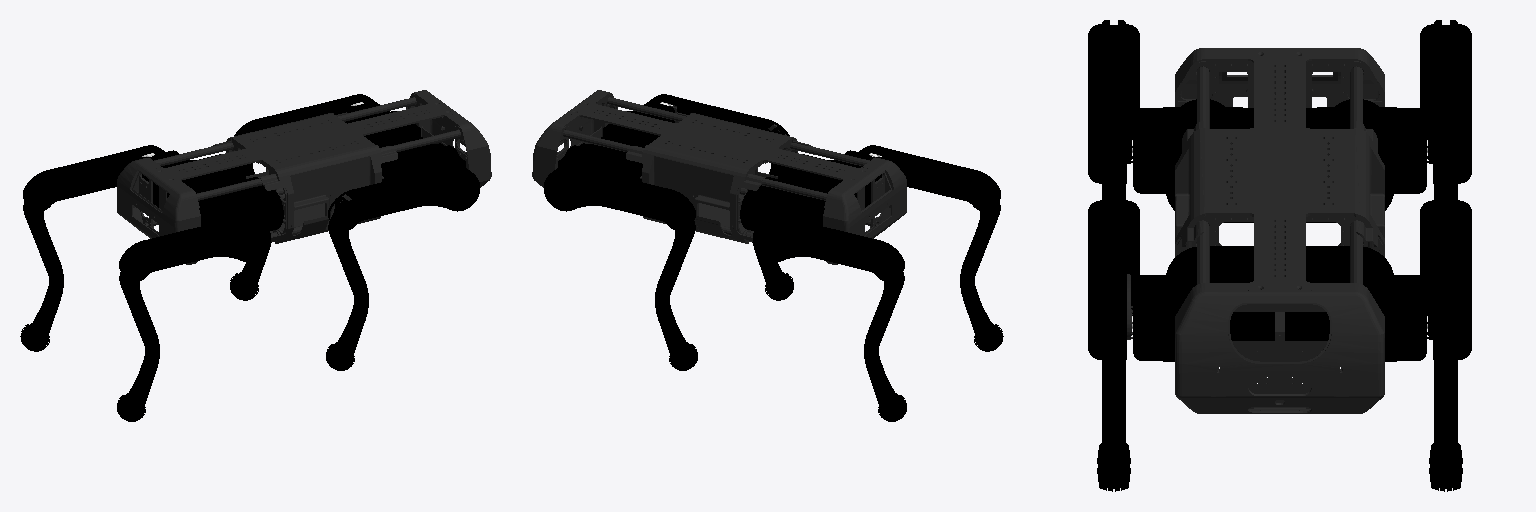
--- Render facts (derived) ---
Views: 3 orthographic renders of the robot side by side, from view 1: azimuth 30°, elevation 25°; view 2: azimuth 150°, elevation 25°; view 3: azimuth 270°, elevation 25°.
Robot: aidin8 — 27 links, 26 joints (13 revolute, 1 prismatic, 12 fixed); root link base1; default pose: all joints at 0.
Visible links, largest first — view 1: body, RB_2, RF_2, LB_2, LB_3, RF_3, RB_3, RB_1, RF_1, LF_2, LB_1, LF_3 (+1 smaller); view 2: body, LF_2, LB_2, RB_2, RB_3, LF_3, LB_3, LB_1, LF_1, RF_2, RB_1, RF_3 (+1 smaller); view 3: body, RF_1, LF_1, LB_2, RB_2, RF_2, LF_2, LB_1, RB_1, RF_3, LF_3.
Link boxes in pixels (x1=…): body: x1=117, y1=90, x2=491, y2=264; RB_2: x1=119, y1=216, x2=270, y2=281; RF_2: x1=328, y1=165, x2=479, y2=230; LB_2: x1=23, y1=145, x2=164, y2=210; LB_3: x1=20, y1=177, x2=63, y2=351; RF_3: x1=326, y1=197, x2=368, y2=370; RB_3: x1=117, y1=248, x2=159, y2=421; RB_1: x1=196, y1=177, x2=283, y2=230; RF_1: x1=379, y1=137, x2=465, y2=181; LF_2: x1=234, y1=94, x2=377, y2=135; LB_1: x1=142, y1=150, x2=245, y2=207; LF_3: x1=230, y1=126, x2=271, y2=300; body: x1=532, y1=90, x2=906, y2=264; LF_2: x1=544, y1=165, x2=695, y2=229; LB_2: x1=753, y1=216, x2=904, y2=280; RB_2: x1=859, y1=145, x2=1000, y2=210; RB_3: x1=960, y1=177, x2=1003, y2=351; LF_3: x1=655, y1=197, x2=697, y2=370; LB_3: x1=864, y1=248, x2=906, y2=421; LB_1: x1=740, y1=177, x2=827, y2=230; LF_1: x1=558, y1=137, x2=644, y2=181; RF_2: x1=646, y1=94, x2=789, y2=135; RB_1: x1=778, y1=150, x2=881, y2=207; RF_3: x1=752, y1=126, x2=793, y2=300; body: x1=1175, y1=48, x2=1384, y2=413; RF_1: x1=1133, y1=246, x2=1274, y2=361; LF_1: x1=1285, y1=246, x2=1426, y2=361; LB_2: x1=1420, y1=24, x2=1471, y2=183; RB_2: x1=1088, y1=24, x2=1139, y2=183; RF_2: x1=1088, y1=200, x2=1139, y2=359; LF_2: x1=1420, y1=200, x2=1471, y2=359; LB_1: x1=1306, y1=99, x2=1426, y2=222; RB_1: x1=1133, y1=99, x2=1253, y2=222; RF_3: x1=1097, y1=197, x2=1130, y2=491; LF_3: x1=1429, y1=197, x2=1462, y2=491.
Size in the robot's own frame: 1.21 by 0.5944 by 0.5596 metres.
26 mesh visuals loaded from 17 distinct referenced files (13 binary STL); not drawn: 4 (reference not matched to a file when rendering).

URDF robot description (aidin8):
<?xml version="1.0" ?>
<!-- TODO: https://github.com/aidinrobotics/aidin8_sim/blob/bumsu_camera/urdf/aidin8.urdf-->

<robot name="aidin8">
  <material name="black">
    <color rgba="0.0 0.0 0.0 1.0"/>
  </material>
  <material name="blue">
    <color rgba="0.0 0.0 0.8 1.0"/>
  </material>
  <material name="green">
    <color rgba="0.0 0.8 0.0 1.0"/>
  </material>
  <material name="grey">
    <color rgba="0.2 0.2 0.2 1.0"/>
  </material>
  <material name="silver">
    <color rgba="0.913725490196 0.913725490196 0.847058823529 1.0"/>
  </material>
  <material name="orange">
    <color rgba="1.0 0.423529411765 0.0392156862745 1.0"/>
  </material>
  <material name="brown">
    <color rgba="0.870588235294 0.811764705882 0.764705882353 1.0"/>
  </material>
  <material name="red">
    <color rgba="0.8 0.0 0.0 1.0"/>
  </material>
  <material name="yellow">
    <color rgba="0.8 0.8 0.0 1.0"/>
  </material>
  <material name="white">
    <color rgba="1.0 1.0 1.0 1.0"/>
  </material>

<!--///////////////////// Virtual link for dataset collection /////////////////////-->

  <link name="base1"/>

  <joint name="joint1" type="prismatic">
    <parent link="base1"/>
    <child link="base2"/>
    <origin xyz="0.0 0.0 0.0" rpy="0.0 0.0 0.0"/>
    <axis xyz="0.0 0.0 1.0"/>
    <!-- <limit effort="1000.0" lower="-4" upper="4" velocity="100"/> -->
    <limit velocity="5"/>
  </joint>

  <link name="base2"/>

   <joint name="joint2" type="revolute">
    <parent link="base2"/>
    <child link="body"/>
    <origin xyz="0.0 0.0 0.0" rpy="0.0 0.0 0.0"/>
    <axis xyz="0.0 0.0 1.0"/>
    <limit lower="-3.14" upper="3.14" velocity="0.05"/>
  </joint>

<!--////////////////////////////////   Body    ////////////////////////////////-->
  <link name="body">
    <inertial>
      <mass value="12.3188555"/>
      <origin xyz="0.00142 -0.00222 -0.04319" rpy="0 0 0"/>
      <inertia ixx="0.1104557116459" ixy="0.0002742627834" ixz="-0.0007826805716" iyy="0.2925866863396" iyz="-0.0018014327089" izz="0.3259809298915"/>
    </inertial>
    <collision name="body_col" >
      <origin xyz="0 0 0" rpy="0 0 0"/>
      <geometry>
        <mesh filename="../meshes/meshes_surface/AR21HA-BOY-A000-2.STL" scale="1 1 1"/>
      </geometry>
    </collision>
    <visual name="body_vis">
      <origin xyz="0 0 0" rpy="0 0 3.14159"/>
      <geometry>
        <mesh filename="../meshes/meshes_surface/AR21HA-BOY-A000-2.STL" scale="1 1 1"/>
      </geometry>
      <material name="grey"/>
    </visual>
    <visual name="body_cover_vis">
      <origin xyz="0 0 0" rpy="0 0 3.14159"/>
      <geometry>
        <mesh filename="../meshes/meshes_surface/AR21HA-BOY-A000-2.STL" scale="1 1 1"/>
      </geometry>
      <material name="black"/>
    </visual>
  </link>
<!--  <gazebo reference="body">-->
<!--    <material>Gazebo/DarkGrey</material>-->
<!--  </gazebo>-->


<!--//////////////////////////////// RF LINKS /////////////////////////////////-->

  <link name="RF_1">
    <inertial>
      <mass value="6.3549628"/>
      <origin xyz="2.22e-03 -7.00e-05 -3.49e-02" rpy="0 0 0"/>
      <inertia ixx="0.0268838092963" ixy="-0.0000090031909" ixz="0.0010319405579" iyy="0.0388589753376" iyz="0.0000168509340" izz="0.0189992476926"/>
    </inertial>
    <collision name="RF_col1" >
      <origin xyz="0 0 0" rpy="0 0 0"/>
      <geometry>
        <mesh filename="../meshes/meshes_surface/sc_cover_RF.STL" scale="1 1 1"/>
      </geometry>
    </collision>
    <visual name="RF_1_vis">
      <origin xyz="0 0 0" rpy="0 0 0"/>
      <geometry>
        <mesh filename="../meshes/meshes_surface/Leg_Scapular_RF_stp_v2.STL" scale="1 1 1"/>
      </geometry>
      <material name="grey"/>
    </visual>
    <visual name="RF_1_cover_vis">
      <origin xyz="0 0 0" rpy="0 0 0"/>
      <geometry>
        <mesh filename="../meshes/meshes_surface/sc_cover_RF.STL" scale="1 1 1"/>
      </geometry>
      <material name="black"/>
    </visual>
  </link>
<!--  <gazebo reference="RF_1">-->
<!--    <material>Gazebo/DarkGrey</material>-->
<!--  </gazebo>-->

  <link name="RF_2">
    <inertial>
      <mass value="0.8592967"/>
      <origin xyz="1.75316e-01 -1.49727e-02 1.2510e-04" rpy="0 0 0"/>
      <inertia ixx="0.0007326198866" ixy="0.0000038940144" ixz="-0.0000188175364" iyy="0.0157450190455" iyz="0.0000015777233" izz="0.0157308802469"/>
    </inertial>
    <collision name="RF_col2" >
      <origin xyz="0 0 0" rpy="0 0 0"/>
      <geometry>
        <mesh filename="../meshes/meshes_surface/hip_cover_r.STL" scale="1 1 1"/>
      </geometry>
    </collision>
    <visual name="RF_2_vis">
      <origin xyz="0 0 0" rpy="0 0 0"/>
      <geometry>
        <mesh filename="../meshes/meshes_surface/Leg_Hip_right_stp.STL" scale="1 1 1"/>
      </geometry>
      <material name="grey"/>
    </visual>
    <visual name="RF_2_cover_vis">
      <origin xyz="0 0 0" rpy="0 0 0"/>
      <geometry>
        <mesh filename="../meshes/meshes_surface/hip_cover_r.STL" scale="1 1 1"/>
      </geometry>
      <material name="black"/>
    </visual>
  </link>
<!--  <gazebo reference="RF_2">-->
<!--    <material>Gazebo/DarkGrey</material>-->
<!--  </gazebo>-->

  <link name="RF_3">
    <inertial>
      <mass value="1.0898094"/>
      <origin xyz="0.1800139 0.0211379 0" rpy="0 0 0"/>
      <inertia ixx="0.0011170724779" ixy="0.0013927896194" ixz="-0.0000000006471" iyy="0.028702148538" iyz="-0.0000000000318" izz="0.0294755353979"/>
    </inertial>
    <collision name="RF_col3">
      <origin rpy="0  0  0" xyz="0  0  0"/>
      <geometry>
        <mesh filename="../meshes/meshes_surface/leg_t.STL" scale="1 1 1"/>
      </geometry>
    </collision>
    <collision name="RF_col4">
      <origin rpy="0  0  0" xyz="0  0  0"/>
      <geometry>
        <mesh filename="../meshes/meshes_surface/leg_b.STL" scale="1 1 1"/>
      </geometry>
    </collision>
    <visual name="RF_3_vis">
      <origin xyz="0 0 0" rpy="0 0 0"/>
      <geometry>
        <mesh filename="../meshes/meshes_surface/leg_foot.STL" scale="1 1 1"/>
      </geometry>
      <material name="black"/>
    </visual>
  </link>
<!--  <gazebo reference="RF_3">-->
<!--    <material>Gazebo/Grey</material>-->
<!--  </gazebo>-->

  <link name="RF_link1">
    <inertial>
      <mass value="0.356529"/>
      <origin xyz="0.00726 -0.00049 -0.03152" rpy="0 0 0"/>
      <inertia ixx="0.0009737671712" ixy="0.0000021895727" ixz="0.0000821138402" iyy="0.0010410742162" iyz="-0.0000057093198" izz="0.0001183464867"/>
    </inertial>
    <visual name="RF_link1_vis">
      <origin xyz="0 0 0" rpy="0 0 0"/>
      <geometry>
        <mesh filename="../meshes/meshes_surface/Knee_link1_right_stp.STL" scale="1 1 1"/>
      </geometry>
      <material name="white"/>
    </visual>
  </link>

  <link name="RF_link2">
    <inertial>
      <mass value="0.20931"/>
      <origin xyz="0.175 0    0" rpy="0 0 0"/>
      <inertia ixx="0.00000747991" ixy="0" ixz="0" iyy="0.00238918720" iyz="0" izz="0.00239407889"/>
    </inertial>
    <visual name="RF_link2_vis">
      <origin xyz="0    0    0" rpy="0    0    0"/>
      <geometry>
        <mesh filename="../meshes/meshes_surface/Knee_link2_stp.STL" scale="1 1 1"/>
      </geometry>
      <material name="black"/>
    </visual>
  </link>

  <link name="RF_foot">
    <inertial>
      <mass value="0.01"/>
      <inertia ixx="0" ixy="0.0" ixz="0.0" iyy="0" iyz="0.0" izz="0"/>
    </inertial>
    <collision name="RF_col5">
      <origin rpy="0  0  0" xyz="0  0  0"/>
      <geometry>
        <mesh filename="../meshes/meshes_surface/foot.STL" scale="1 1 1"/>
      </geometry>
    </collision>
    <!-- <visual name="RF_foot_vis">
      <origin xyz="0    0    0" rpy="0    0    0"/>
      <geometry>
        <sphere radius="0.02"/>
      </geometry>
      <material name="white"/>
    </visual> -->
  </link>

<!--//////////////////////////////// RF JOINTS ////////////////////////////////-->

  <joint name="RFJ1" type="revolute">
    <parent link="body"/>
    <child link="RF_1"/>
    <origin xyz="0.3224 -0.119   0" rpy="-1.57079  0      -1.57079"/>
    <axis xyz="0 0 1"/>
    <limit lower="-0.6108652382" upper="0.6108652382" effort="150.0" velocity="15.5"/>
  </joint>

  <joint name="RFJ2" type="revolute">
    <parent link="RF_1"/>
    <child link="RF_2"/>
    <origin xyz="0.13769 0      0" rpy="-1.58259  1.57079 -1.58259"/>
    <axis xyz="0 0 1"/>
    <limit lower="-3.14" upper="3.14" effort="150.0" velocity="15.5"/>
  </joint>

  <joint name="RFJ3" type="revolute">
    <parent link="RF_2"/>
    <child link="RF_3"/>
    <origin xyz="0.35 0   0" rpy="0      0      1.57079"/>
    <axis xyz="0 0 1"/>
    <limit lower="-1.308996939" upper="1.0471975512" effort="150.0" velocity="15.5"/>
  </joint>

  <joint name="RFJ_link1" type="fixed"> <!--revolute -> fixed-->
    <parent link="RF_1"/>
    <child link="RF_link1"/>
    <origin xyz="0.13769 0      0" rpy="-1.57079  0.17453 -1.57079"/>
    <axis xyz="0 0 1"/>
  </joint>

  <joint name="RFJ_link2" type="fixed"> <!--revolute -> fixed-->
    <parent link="RF_2"/>
    <child link="RF_link2"/>
    <origin xyz="0    0    0" rpy="0    0    0"/>
    <axis xyz="0 0 1"/>
  </joint>

  <joint name="RFJ_foot" type="fixed" dont_collapse="true"> <!--revolute -> fixed-->
    <parent link="RF_3"/>
    <child link="RF_foot"/>
    <origin rpy="0 0 0" xyz="0.4 0 0"/>
    <axis xyz="0 0 1"/>
  </joint>

<!--//////////////////////////////// LF LINKS /////////////////////////////////-->

  <link name="LF_1">
    <inertial>
      <mass value="6.3549628"/>
      <origin xyz="0.00223 -0.00011 -0.03491" rpy="0 0 0"/>
      <inertia ixx="0.0268822823205" ixy="0.0000315138420" ixz="-0.0010398645982" iyy="0.0388571979436" iyz="-0.0000013704590" izz="0.01899889911081"/>
    </inertial>
    <collision name="LF_col1" >
      <origin xyz="0 0 0" rpy="0 0 0"/>
      <geometry>
        <mesh filename="../meshes/meshes_surface/sc_cover_LF.STL" scale="1 1 1"/>
      </geometry>
    </collision>
    <visual name="LF_1_vis">
      <origin xyz="0 0 0" rpy="0 0 0"/>
      <geometry>
        <mesh filename="../meshes/meshes_surface/Leg_Scapular_LF_stp_v2.STL" scale="1 1 1"/>
      </geometry>
      <material name="black"/>
    </visual>
    <visual name="LF_1_cover_vis">
      <origin xyz="0 0 0" rpy="0 0 0"/>
      <geometry>
        <mesh filename="../meshes/meshes_surface/sc_cover_LF.STL" scale="1 1 1"/>
      </geometry>
      <material name="black"/>
    </visual>
  </link>
<!--  <gazebo reference="LF_1">-->
<!--    <material>Gazebo/DarkGrey</material>-->
<!--  </gazebo>-->

  <link name="LF_2">
    <inertial>
      <mass value="0.8592967"/>
      <origin xyz="1.75316e-01 -1.49727e-02 -1.2510e-04" rpy="0 0 0"/>
      <inertia ixx="0.0007326198857" ixy="0.0000038940144" ixz="0.0000188178556" iyy="0.0157450190446" iyz="-0.0000015777889" izz="0.0157308802467"/>
    </inertial>
    <collision name="LF_col2" >
      <origin xyz="0 0 0" rpy="0 0 0"/>
      <geometry>
        <mesh filename="../meshes/meshes_surface/hip_cover_l.STL" scale="1 1 1"/>
      </geometry>
    </collision>
    <visual name="LF_2_vis">
      <origin xyz="0 0 0" rpy="0 0 0"/>
      <geometry>
        <mesh filename="../meshes/meshes_surface/Leg_Hip_left_stp.STL" scale="1 1 1"/>
      </geometry>
      <material name="black"/>
    </visual>
    <visual name="LF_2_cover_vis">
      <origin xyz="0 0 0" rpy="0 0 0"/>
      <geometry>
        <mesh filename="../meshes/meshes_surface/hip_cover_l.STL" scale="1 1 1"/>
      </geometry>
      <material name="black"/>
    </visual>
  </link>
<!--  <gazebo reference="LF_2">-->
<!--    <material>Gazebo/DarkGrey</material>-->
<!--  </gazebo>-->

  <link name="LF_3">
    <inertial>
      <mass value="1.0898094"/>
      <origin xyz="0.1800139 0.0211379 0" rpy="0 0 0"/>
      <inertia ixx="0.0011170724779" ixy="0.0013927896194" ixz="-0.0000000006471" iyy="0.028702148538" iyz="-0.0000000000318" izz="0.0294755353979"/>
    </inertial>
    <collision name="LF_col3">
      <origin rpy="0  0  0" xyz="0  0  0"/>
      <geometry>
        <mesh filename="../meshes/meshes_surface/leg_t.STL" scale="1 1 1"/>
      </geometry>
    </collision>
    <collision name="LF_col4">
      <origin rpy="0  0  0" xyz="0  0  0"/>
      <geometry>
        <mesh filename="../meshes/meshes_surface/leg_b.STL" scale="1 1 1"/>
      </geometry>
    </collision>
    <visual name="LF_3_vis">
      <origin xyz="0 0 0" rpy="0 0 0"/>
      <geometry>
        <mesh filename="../meshes/meshes_surface/leg_foot.STL" scale="1 1 1"/>
      </geometry>
      <material name="black"/>
    </visual>
  </link>
<!--  <gazebo reference="LF_3">-->
<!--    <material>Gazebo/Grey</material>-->
<!--  </gazebo>-->

  <link name="LF_link1">
    <inertial>
      <mass value="0.356529"/>
      <origin xyz="0.00728 -0.00049  0.03154" rpy="0 0 0"/>
      <inertia ixx="0.0009733125313" ixy="0.0000022519068" ixz="-0.0000814612402" iyy="0.0010405526310" iyz="0.0000057129200" izz="0.0001182849391"/>
    </inertial>
    <visual name="LF_link1_vis">
      <origin xyz="0 0 0" rpy="0 0 0"/>
      <geometry>
        <mesh filename="../meshes/meshes_surface/Knee_link1_left_stp.STL" scale="1 1 1"/>
      </geometry>
      <material name="white"/>
    </visual>
  </link>

  <link name="LF_link2">
    <inertial>
      <mass value="0.20931"/>
      <origin xyz="0.175 0    0" rpy="0 0 0"/>
      <inertia ixx="0.00000747991" ixy="0" ixz="0" iyy="0.00238918720" iyz="0" izz="0.00239407889"/>
    </inertial>
    <visual name="LF_link2_vis">
      <origin xyz="0    0    0" rpy="0    0    0"/>
      <geometry>
        <mesh filename="../meshes/meshes_surface/Knee_link2_stp.STL" scale="1 1 1"/>
      </geometry>
      <material name="white"/>
    </visual>
  </link>

  <link name="LF_foot">
    <inertial>
      <mass value="0.01"/>
      <inertia ixx="0" ixy="0.0" ixz="0.0" iyy="0" iyz="0.0" izz="0"/>
    </inertial>
    <collision name="RF_col5">
      <origin rpy="0  0  0" xyz="0  0  0"/>
      <geometry>
        <mesh filename="../meshes/meshes_surface/foot.STL" scale="1 1 1"/>
      </geometry>
    </collision>
    <!-- <visual name="LF_foot_vis">
      <origin xyz="0    0    0" rpy="0    0    0"/>
      <geometry>
        <sphere radius="0.02"/>
      </geometry>
      <material name="yellow"/>
    </visual> -->
  </link>

<!--//////////////////////////////// LF JOINTS ////////////////////////////////-->

  <joint name="LFJ1" type="revolute">
    <parent link="body"/>
    <child link="LF_1"/>
    <origin xyz="0.3224 0.119  0" rpy="1.57079 0      1.57079"/>
    <axis xyz="0 0 1"/>
    <limit lower="-0.6108652382" upper="0.6108652382" effort="150.0" velocity="15.5"/>
  </joint>

  <joint name="LFJ2" type="revolute">
    <parent link="LF_1"/>
    <child link="LF_2"/>
    <origin xyz="0.13769 0      0" rpy="-1.559    1.57079  1.58259"/>
    <axis xyz="0 0 1"/>
    <limit lower="-3.14" upper="3.14" effort="150.0" velocity="15.5"/>
  </joint>

  <joint name="LFJ3" type="revolute">
    <parent link="LF_2"/>
    <child link="LF_3"/>
    <origin xyz="0.35 0   0" rpy="0      0      1.57079"/>
    <axis xyz="0 0 1"/>
    <limit lower="-1.308996939" upper="1.0471975512" effort="150.0" velocity="15.5"/>
  </joint>

  <joint name="LFJ_link1" type="fixed"> <!--revolute -> fixed-->
    <parent link="LF_1"/>
    <child link="LF_link1"/>
    <origin xyz="0.13769 0      0" rpy="-1.57079  0.17453  1.57079"/>
    <axis xyz="0 0 1"/>
  </joint>

  <joint name="LFJ_link2" type="fixed"> <!--revolute -> fixed-->
    <parent link="LF_2"/>
    <child link="LF_link2"/>
    <origin xyz="0    0    0" rpy="0    0    0"/>
    <axis xyz="0 0 1"/>
  </joint>

  <joint name="LFJ_foot" type="fixed" dont_collapse="true"> <!--revolute -> fixed-->
    <origin rpy="0 0 0" xyz="0.4 0 0"/>
    <parent link="LF_3"/>
    <child link="LF_foot"/>
  </joint>

<!--//////////////////////////////// LB LINKS /////////////////////////////////-->

  <link name="LB_1">
    <inertial>
      <mass value="6.3549628"/>
      <origin xyz="2.22e-03 -7.00e-05  3.49e-02" rpy="0 0 0"/>
      <inertia ixx="0.0268838092963" ixy="0.0000090031909" ixz="-0.0010319405579" iyy="0.0388589753376" iyz="0.0000168509340" izz="0.0189992476926"/>
    </inertial>
    <collision name="LB_col1" >
      <origin xyz="0 0 0" rpy="0 0 0"/>
      <geometry>
        <mesh filename="../meshes/meshes_surface/sc_cover_LB.STL" scale="1 1 1"/>
      </geometry>
    </collision>
    <visual name="LB_1_vis">
      <origin xyz="0 0 0" rpy="0 0 0"/>
      <geometry>
        <mesh filename="../meshes/meshes_surface/Leg_Scapular_LR_stp_v2.STL" scale="1 1 1"/>
      </geometry>
      <material name="black"/>
    </visual>
    <visual name="LB_1_cover_vis">
      <origin xyz="0 0 0" rpy="0 0 0"/>
      <geometry>
        <mesh filename="../meshes/meshes_surface/sc_cover_LB.STL" scale="1 1 1"/>
      </geometry>
      <material name="black"/>
    </visual>
  </link>
<!--  <gazebo reference="LB_1">-->
<!--    <material>Gazebo/DarkGrey</material>-->
<!--  </gazebo>-->

  <link name="LB_2">
    <inertial>
      <mass value="0.8592967"/>
      <origin xyz="1.75316e-01 -1.49727e-02 -1.2510e-04" rpy="0 0 0"/>
      <inertia ixx="0.0007326198857" ixy="0.0000038940144" ixz="0.0000188178556" iyy="0.0157450190446" iyz="-0.0000015777889" izz="0.0157308802467"/>
    </inertial>
    <collision name="LB_col2" >
      <origin xyz="0 0 0" rpy="0 0 0"/>
      <geometry>
        <mesh filename="../meshes/meshes_surface/hip_cover_l.STL" scale="1 1 1"/>
      </geometry>
    </collision>
    <visual name="LB_2_vis">
      <origin xyz="0 0 0" rpy="0 0 0"/>
      <geometry>
        <mesh filename="../meshes/meshes_surface/Leg_Hip_left_stp.STL" scale="1 1 1"/>
      </geometry>
      <material name="black"/>
    </visual>
    <visual name="LB_2_cover_vis">
      <origin xyz="0 0 0" rpy="0 0 0"/>
      <geometry>
        <mesh filename="../meshes/meshes_surface/hip_cover_l.STL" scale="1 1 1"/>
      </geometry>
      <material name="black"/>
    </visual>
  </link>
<!--  <gazebo reference="LB_2">-->
<!--    <material>Gazebo/DarkGrey</material>-->
<!--  </gazebo>-->

  <link name="LB_3">
    <inertial>
      <mass value="1.0898094"/>
      <origin xyz="0.1800139 0.0211379 0" rpy="0 0 0"/>
      <inertia ixx="0.0011170724779" ixy="0.0013927896194" ixz="-0.0000000006471" iyy="0.028702148538" iyz="-0.0000000000318" izz="0.0294755353979"/>
    </inertial>
    <collision name="LB_col3">
      <origin rpy="0  0  0" xyz="0  0  0"/>
      <geometry>
        <mesh filename="../meshes/meshes_surface/leg_t.STL" scale="1 1 1"/>
      </geometry>
    </collision>
    <collision name="LB_col4">
      <origin rpy="0  0  0" xyz="0  0  0"/>
      <geometry>
        <mesh filename="../meshes/meshes_surface/leg_b.STL" scale="1 1 1"/>
      </geometry>
    </collision>
    <visual name="LB_3_vis">
      <origin xyz="0 0 0" rpy="0 0 0"/>
      <geometry>
        <mesh filename="../meshes/meshes_surface/leg_foot.STL" scale="1 1 1"/>
      </geometry>
      <material name="black"/>
    </visual>
  </link>
<!--  <gazebo reference="LB_3">-->
<!--    <material>Gazebo/Grey</material>-->
<!--  </gazebo>-->

  <link name="LB_link1">
    <inertial>
      <mass value="0.356529"/>
      <origin xyz="0.00728 -0.00049  0.03154" rpy="0 0 0"/>
      <inertia ixx="0.0009733125313" ixy="0.0000022519068" ixz="-0.0000814612402" iyy="0.0010405526310" iyz="0.0000057129200" izz="0.0001182849391"/>
    </inertial>
    <visual name="LB_link1_vis">
      <origin xyz="0 0 0" rpy="0 0 0"/>
      <geometry>
        <mesh filename="../meshes/meshes_surface/Knee_link1_left_stp.STL" scale="1 1 1"/>
      </geometry>
      <material name="white"/>
    </visual>
  </link>

  <link name="LB_link2">
    <inertial>
      <mass value="0.20931"/>
      <origin xyz="0.175 0    0" rpy="0 0 0"/>
      <inertia ixx="0.00000747991" ixy="0" ixz="0" iyy="0.00238918720" iyz="0" izz="0.00239407889"/>
    </inertial>
    <visual name="LB_link2_vis">
      <origin xyz="0    0    0" rpy="0    0    0"/>
      <geometry>
        <mesh filename="../meshes/meshes_surface/Knee_link2_stp.STL" scale="1 1 1"/>
      </geometry>
      <material name="white"/>
    </visual>
  </link>

  <link name="LB_foot">
    <inertial>
      <mass value="0.01"/>
      <inertia ixx="0" ixy="0.0" ixz="0.0" iyy="0" iyz="0.0" izz="0"/>
    </inertial>
    <collision name="LB_col5">
      <origin rpy="0  0  0" xyz="0  0  0"/>
      <geometry>
        <mesh filename="../meshes/meshes_surface/foot.STL" scale="1 1 1"/>
      </geometry>
    </collision>
    <!-- <visual name="LB_foot_vis">
      <origin xyz="0    0    0" rpy="0    0    0"/>
      <geometry>
        <sphere radius="0.02"/>
      </geometry>
      <material name="green"/>
    </visual> -->
  </link>

<!--//////////////////////////////// LB JOINTS ////////////////////////////////-->

  <joint name="LBJ1" type="revolute">
    <parent link="body"/>
    <child link="LB_1"/>
    <origin xyz="-0.3224  0.119   0" rpy="1.57079 0      1.57079"/>
    <axis xyz="0 0 1"/>
    <limit lower="-0.6108652382" upper="0.6108652382" effort="150.0" velocity="15.5"/>
  </joint>

  <joint name="LBJ2" type="revolute">
    <parent link="LB_1"/>
    <child link="LB_2"/>
    <origin xyz="0.13769 0      0" rpy="-1.559    1.57079  1.58259"/>
    <axis xyz="0 0 1"/>
    <limit lower="-3.14" upper="3.14" effort="150.0" velocity="15.5"/>
  </joint>

  <joint name="LBJ3" type="revolute">
    <parent link="LB_2"/>
    <child link="LB_3"/>
    <origin xyz="0.35 0   0" rpy="0      0      1.57079"/>
    <axis xyz="0 0 1"/>
    <limit lower="-1.308996939" upper="1.0471975512" effort="150.0" velocity="15.5"/>
  </joint>

  <joint name="LBJ_link1" type="fixed"> <!--revolute -> fixed-->
    <parent link="LB_1"/>
    <child link="LB_link1"/>
    <origin xyz="0.13769 0      0" rpy="-1.57079  0.17453  1.57079"/>
    <axis xyz="0 0 1"/>
  </joint>

  <joint name="LBJ_link2" type="fixed"> <!--revolute -> fixed-->
    <parent link="LB_2"/>
    <child link="LB_link2"/>
    <origin xyz="0    0    0" rpy="0    0    0"/>
    <axis xyz="0 0 1"/>
  </joint>

  <joint name="LBJ_foot" type="fixed" dont_collapse="true"> <!--revolute -> fixed-->
    <origin rpy="0 0 0" xyz="0.4 0 0"/>
    <parent link="LB_3"/>
    <child link="LB_foot"/>
    <axis xyz="0 0 1"/>
  </joint>

<!--//////////////////////////////// RB LINKS /////////////////////////////////-->

  <link name="RB_1">
    <inertial>
      <mass value="6.3549628"/>
      <origin xyz="0.00223 0.00011 0.03491" rpy="0 0 0"/>
      <inertia ixx="0.0268822823505" ixy="-0.0000315138420" ixz="-0.0010398645982" iyy="0.0388571979436" iyz="-0.0000013704590" izz="0.0189988991081"/>
    </inertial>
    <collision name="RB_col1" >
      <origin xyz="0 0 0" rpy="0 0 0"/>
      <geometry>
        <mesh filename="../meshes/meshes_surface/sc_cover_RB.STL" scale="1 1 1"/>
      </geometry>
    </collision>
    <visual name="RB_1_vis">
      <origin xyz="0 0 0" rpy="0 0 0"/>
      <geometry>
        <mesh filename="../meshes/meshes_surface/Leg_Scapular_RR_stp_v2.STL" scale="1 1 1"/>
      </geometry>
      <material name="black"/>
    </visual>
    <visual name="RB_1_cover_vis">
      <origin xyz="0 0 0" rpy="0 0 0"/>
      <geometry>
        <mesh filename="../meshes/meshes_surface/sc_cover_RB.STL" scale="1 1 1"/>
      </geometry>
      <material name="black"/>
    </visual>
  </link>
<!--  <gazebo reference="RB_1">-->
<!--    <material>Gazebo/DarkGrey</material>-->
<!--  </gazebo>-->

  <link name="RB_2">
    <inertial>
      <mass value="0.8592967"/>
      <origin xyz="1.75316e-01 -1.49727e-02 1.2510e-04" rpy="0 0 0"/>
      <inertia ixx="0.0007326198866" ixy="0.0000038940144" ixz="-0.0000188175364" iyy="0.0157450190455" iyz="0.0000015777233" izz="0.0157308802469"/>
    </inertial>
    <collision name="RB_col2" >
      <origin xyz="0 0 0" rpy="0 0 0"/>
      <geometry>
        <mesh filename="../meshes/meshes_surface/hip_cover_r.STL" scale="1 1 1"/>
      </geometry>
    </collision>
    <visual name="RB_2_vis">
      <origin xyz="0 0 0" rpy="0 0 0"/>
      <geometry>
        <mesh filename="../meshes/meshes_surface/Leg_Hip_right_stp.STL" scale="1 1 1"/>
      </geometry>
      <material name="black"/>
    </visual>
    <visual name="RB_2_cover_vis">
      <origin xyz="0 0 0" rpy="0 0 0"/>
      <geometry>
        <mesh filename="../meshes/meshes_surface/hip_cover_r.STL" scale="1 1 1"/>
      </geometry>
      <material name="black"/>
    </visual>
  </link>
<!--  <gazebo reference="RB_2">-->
<!--    <material>Gazebo/DarkGrey</material>-->
<!--  </gazebo>-->

  <link name="RB_3">
    <inertial>
      <mass value="1.0898094"/>
      <origin xyz="0.1800139 0.0211379 0" rpy="0 0 0"/>
      <inertia ixx="0.0011170724779" ixy="0.0013927896194" ixz="-0.0000000006471" iyy="0.028702148538" iyz="-0.0000000000318" izz="0.0294755353979"/>
    </inertial>
    <collision name="RB_col3">
      <origin rpy="0  0  0" xyz="0  0  0"/>
      <geometry>
        <mesh filename="../meshes/meshes_surface/leg_t.STL" scale="1 1 1"/>
      </geometry>
    </collision>
    <collision name="RB_col4">
      <origin rpy="0  0  0" xyz="0  0  0"/>
      <geometry>
        <mesh filename="../meshes/meshes_surface/leg_b.STL" scale="1 1 1"/>
      </geometry>
    </collision>
    <visual name="RB_3_vis">
      <origin xyz="0 0 0" rpy="0 0 0"/>
      <geometry>
        <mesh filename="../meshes/meshes_surface/leg_foot.STL" scale="1 1 1"/>
      </geometry>
      <material name="black"/>
    </visual>
  </link>
<!--  <gazebo reference="RB_3">-->
<!--    <material>Gazebo/Grey</material>-->
<!--  </gazebo>-->

  <link name="RB_link1">
    <inertial>
      <mass value="0.356529"/>
      <origin xyz="0.00726 -0.00049 -0.03152" rpy="0 0 0"/>
      <inertia ixx="0.0009737671712" ixy="0.0000021895727" ixz="0.0000821138402" iyy="0.0010410742162" iyz="-0.0000057093198" izz="0.0001183464867"/>
    </inertial>
    <visual name="RB_link1_vis">
      <origin xyz="0 0 0" rpy="0 0 0"/>
      <geometry>
        <mesh filename="../meshes/meshes_surface/Knee_link1_right_stp.STL" scale="1 1 1"/>
      </geometry>
      <material name="white"/>
    </visual>
  </link>

  <link name="RB_link2">
    <inertial>
      <mass value="0.20931"/>
      <origin xyz="0.175 0    0" rpy="0 0 0"/>
      <inertia ixx="0.00000747991" ixy="0" ixz="0" iyy="0.00238918720" iyz="0" izz="0.00239407889"/>
    </inertial>
    <visual name="RB_link2_vis">
      <origin xyz="0    0    0" rpy="0    0    0"/>
      <geometry>
        <mesh filename="../meshes/meshes_surface/Knee_link2_stp.STL" scale="1 1 1"/>
      </geometry>
      <material name="white"/>
    </visual>
  </link>

  <link name="RB_foot">
    <inertial>
      <mass value="0.01"/>
      <inertia ixx="0" ixy="0.0" ixz="0.0" iyy="0" iyz="0.0" izz="0"/>
    </inertial>
    <collision name="RB_col5">
      <origin rpy="0  0  0" xyz="0  0  0"/>
      <geometry>
        <mesh filename="../meshes/meshes_surface/foot.STL" scale="1 1 1"/>
      </geometry>
    </collision>
    <!-- <visual name="RB_foot_vis">
      <origin xyz="0    0    0" rpy="0    0    0"/>
      <geometry>
        <sphere radius="0.02"/>
      </geometry>
      <material name="blue"/>
    </visual> -->
  </link>

<!--//////////////////////////////// RB JOINTS ////////////////////////////////-->

  <joint name="RBJ1" type="revolute">
    <parent link="body"/>
    <child link="RB_1"/>
    <origin xyz="-0.3224 -0.119   0" rpy="-1.57079  0      -1.57079"/>
    <axis xyz="0 0 1"/>
    <limit lower="-0.6108652382" upper="0.6108652382" effort="150.0" velocity="15.5"/>
  </joint>

  <joint name="RBJ2" type="revolute">
    <parent link="RB_1"/>
    <child link="RB_2"/>
    <origin xyz="0.13769 0      0" rpy="-1.58259  1.57079 -1.58259"/>
    <axis xyz="0 0 1"/>
    <limit lower="-3.14" upper="3.14" effort="150.0" velocity="15.5"/>
  </joint>

  <joint name="RBJ3" type="revolute">
    <parent link="RB_2"/>
    <child link="RB_3"/>
    <origin xyz="0.35 0   0" rpy="0      0      1.57079"/>
    <axis xyz="0 0 1"/>
    <limit lower="-1.308996939" upper="1.0471975512" effort="150.0" velocity="15.5"/>
  </joint>

  <joint name="RBJ_link1" type="fixed"> <!--revolute -> fixed-->
    <parent link="RB_1"/>
    <child link="RB_link1"/>
    <origin xyz="0.13769 0      0" rpy="-1.57079  0.17453 -1.57079"/>
    <axis xyz="0 0 1"/>
  </joint>

  <joint name="RBJ_link2" type="fixed"> <!--revolute -> fixed-->
    <parent link="RB_2"/>
    <child link="RB_link2"/>
    <origin xyz="0    0    0" rpy="0    0    0"/>
    <axis xyz="0 0 1"/>
  </joint>

  <joint name="RBJ_foot" type="fixed" dont_collapse="true"> <!--revolute -> fixed-->
    <origin rpy="0 0 0" xyz="0.4 0 0"/>
    <parent link="RB_3"/>
    <child link="RB_foot"/>
    <axis xyz="0 0 1"/>
  </joint>
</robot>
